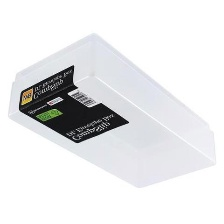plastic_box: (1, 27, 222, 194)
